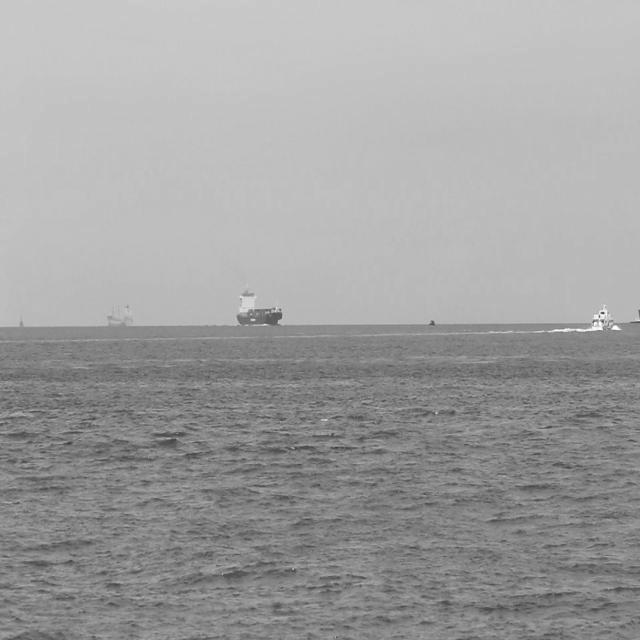ship: (236, 278, 286, 330), (590, 296, 620, 334), (106, 296, 138, 330), (628, 313, 640, 327)
